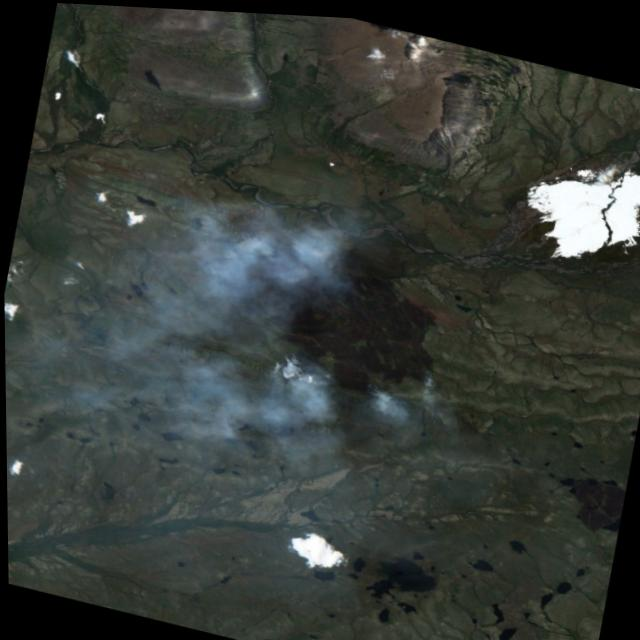fire: (165, 209, 468, 421)
